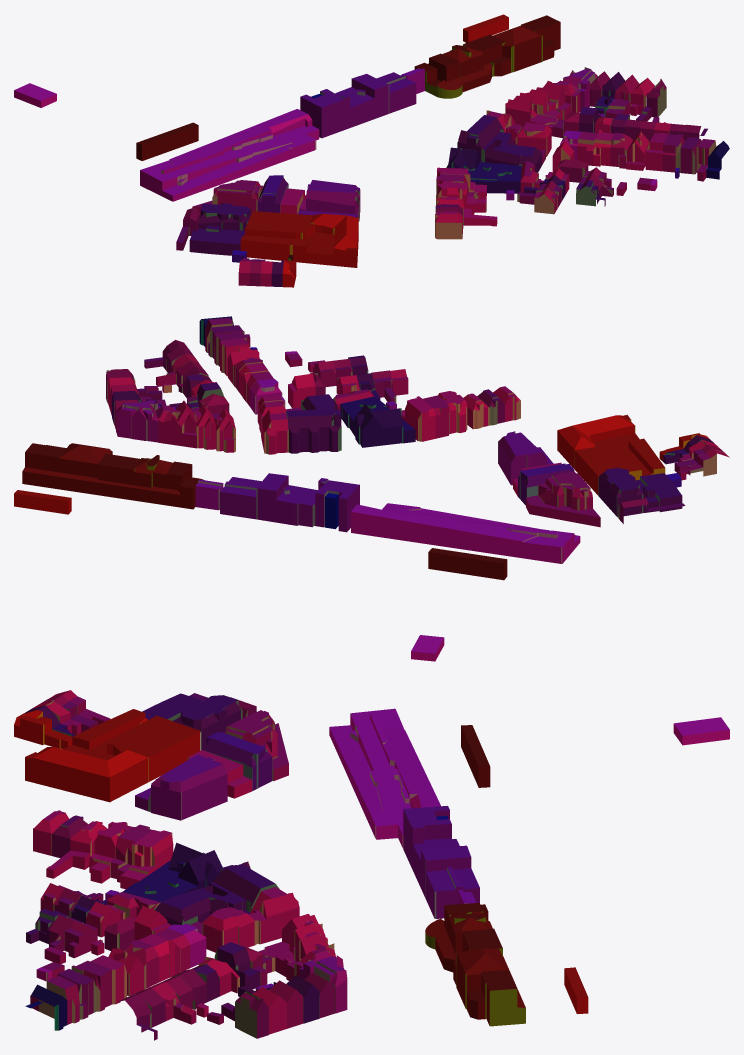
File: buildings_6_6.glb
3 views of the same model, one above another, from view 1: azimuth 30°, elevation 25°; view 2: azimuth 150°, elevation 25°; view 3: azimuth 270°, elevation 25° (orthographic). The views are drawn at different scales.
Visible parts, largest first — view 1: buildings_6_6; view 2: buildings_6_6; view 3: buildings_6_6.
Boxes of the visible parts, x1,y1,x2,y2 form: buildings_6_6: (14,14,729,287); buildings_6_6: (14,316,729,661); buildings_6_6: (14,690,729,1040).
Size of the model in its own units: 214 by 13.4 by 193.
